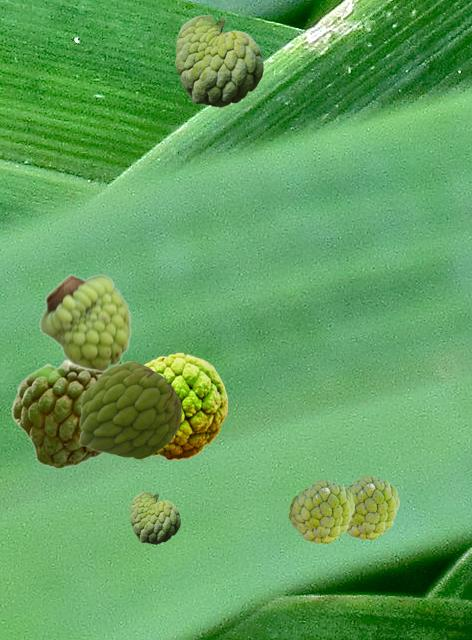atis: (10, 359, 103, 468), (79, 361, 180, 458), (39, 273, 131, 372), (142, 352, 226, 459), (175, 14, 262, 106), (289, 480, 353, 542), (346, 476, 398, 538), (130, 491, 179, 543)
